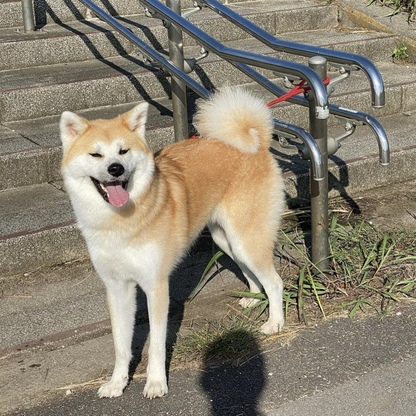akita: (51, 80, 295, 403)
